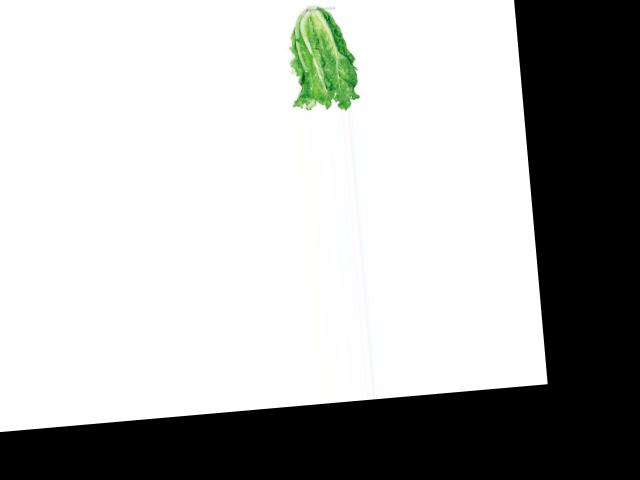lettuce: (282, 5, 361, 114)
